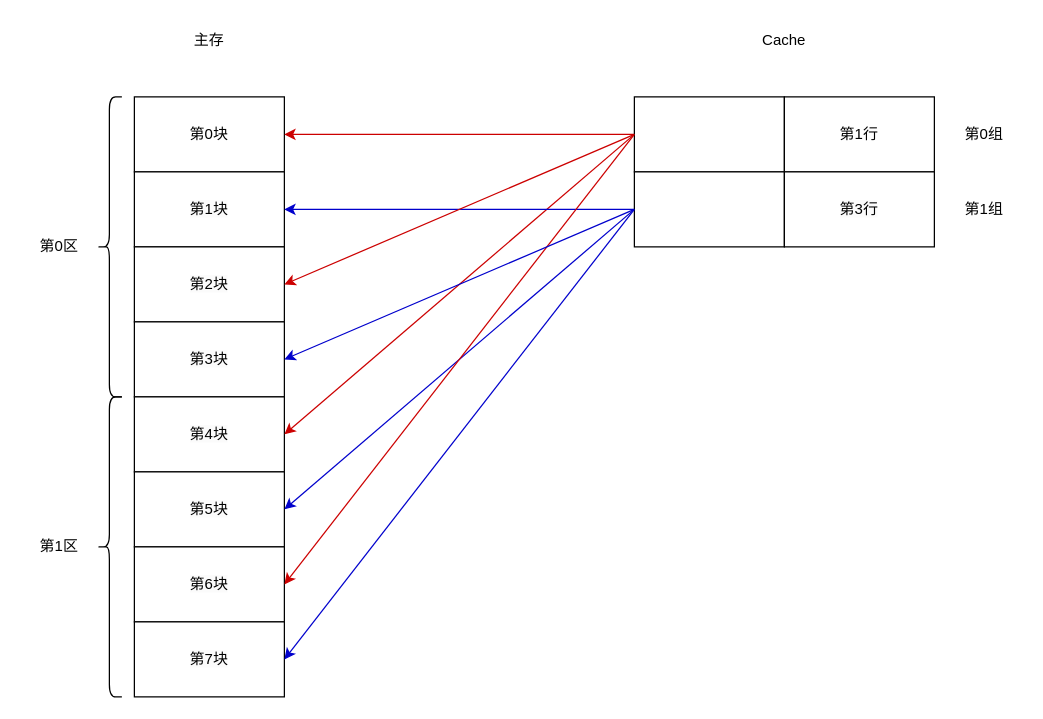
This 1043x719 diagram has some shape labels left out. Here are the shapes that lost their labels. From the top down, the centre of each, then its label:
At (708,134): "第0行".
At (708,209): "第2行".
